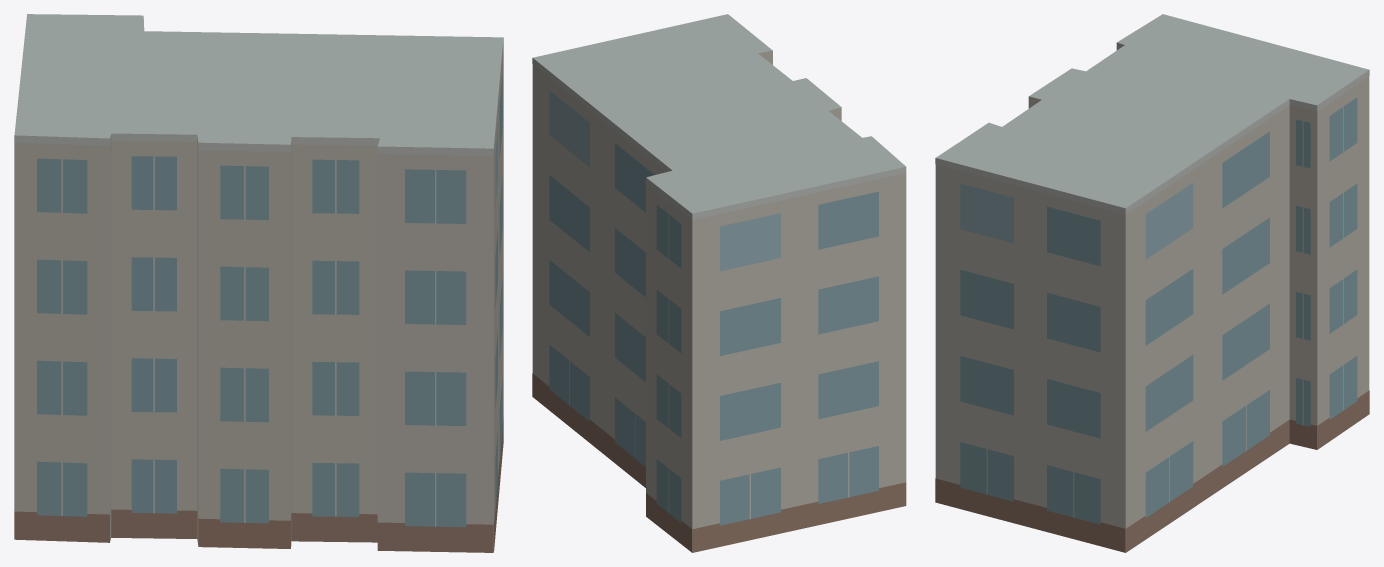
File: survey-upis-32901225.glb
The picture shows the model from 3 angles, left to right: view 1: azimuth 30°, elevation 25°; view 2: azimuth 150°, elevation 25°; view 3: azimuth 270°, elevation 25°; orthographic projection. The views are drawn at different scales.
Parts seen in each view (by area): view 1: survey-upis-32901225.tmp; view 2: survey-upis-32901225.tmp; view 3: survey-upis-32901225.tmp.
Boxes of the visible parts, x1=… form: survey-upis-32901225.tmp: x1=14, y1=14, x2=503, y2=552; survey-upis-32901225.tmp: x1=532, y1=14, x2=906, y2=552; survey-upis-32901225.tmp: x1=935, y1=14, x2=1369, y2=552.
Size of the model in its own units: 16.22 by 13.4 by 15.3.
